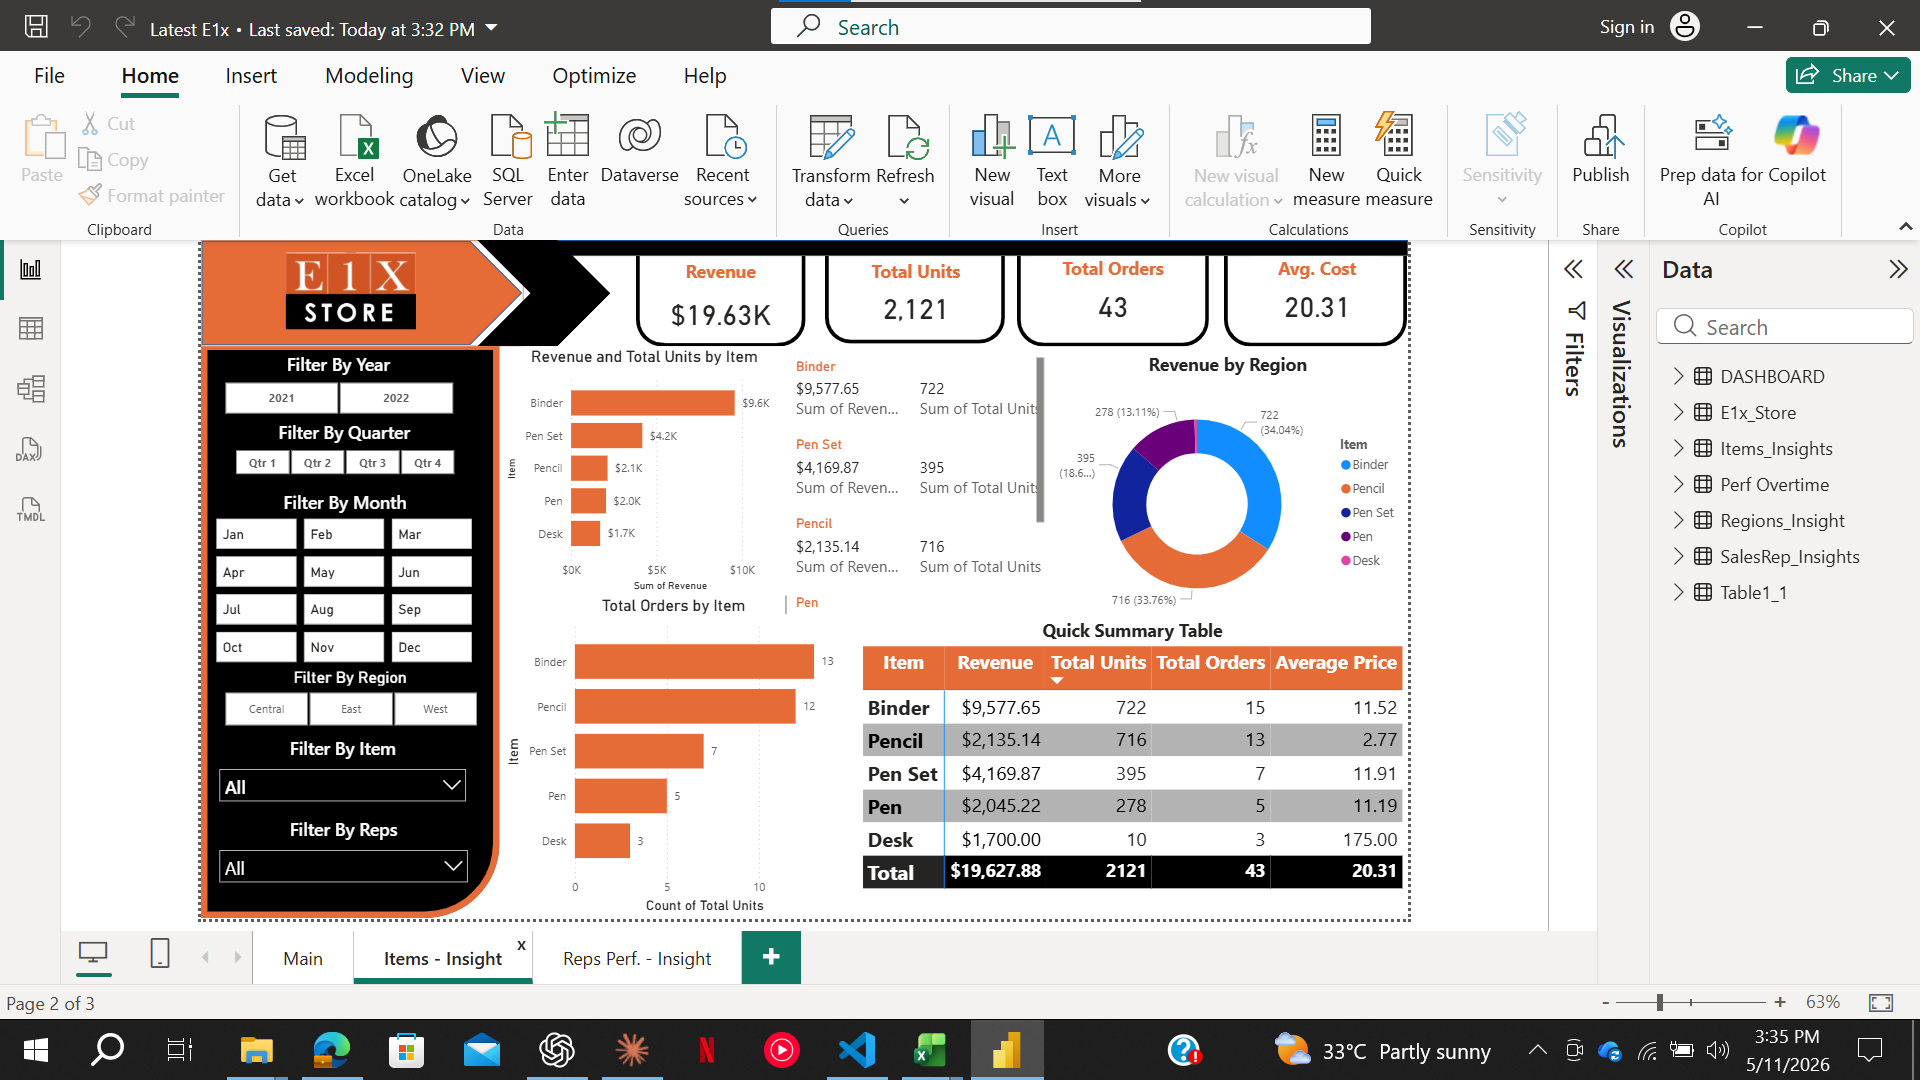

The dashboard page shown, as its layout file describes it:
{"tool":"powerbi","page":{"name":"Items - Insight","canvas":[1280,720],"ordinal":1},"visuals":[{"type":"shape","box":[0,109.8,316.5,609.2],"z":0},{"type":"shape","box":[0,0,342,112.9],"z":1000},{"type":"image","box":[0,8,318.1,105],"z":2000},{"type":"shape","box":[461.3,0,179.7,112.9],"z":3000},{"type":"shape","box":[661.7,0,190.9,109.8],"z":4000},{"type":"shape","box":[865.3,0,203.6,112.9],"z":5000},{"type":"shape","box":[1084.8,0,194.1,112.9],"z":6000},{"type":"shape","box":[338.3,0,941.1,17],"z":7000},{"type":"shape","box":[292.7,0,141.6,112.9],"z":8000},{"type":"card","title":"Revenue","fields":{"Values":["Sum(E1x_Store.Total)"]},"box":[491.3,20.8,119.1,88.8],"z":9000},{"type":"card","title":"Total Units","fields":{"Values":["Sum(Table1_1.Units)"]},"box":[684,20.7,147.9,74.8],"z":10000},{"type":"card","title":"Total Orders","fields":{"Values":["CountNonNull(Table1_1.OrderDate)"]},"box":[882.8,17.5,168.6,77.9],"z":11000},{"type":"card","title":"Avg. Cost","fields":{"Values":["Avg(Table1_1.Unit Cost)"]},"box":[1115,17.5,136.8,77.9],"z":12000},{"type":"donutChart","title":"Revenue by Region","fields":{"Y":["Sum(Table1_1.Units)"],"Category":["Table1_1.Item"]},"box":[898.7,119.3,380.2,295.9],"z":13000},{"type":"pivotTable","title":"Quick Summary Table","fields":{"Values":["Sum(Table1_1.Revenue)","Sum(Table1_1.Units)","CountNonNull(Table1_1.OrderDate)","Avg(Table1_1.Unit Cost)"],"Rows":["Table1_1.Item"]},"box":[696.7,400.8,582.2,316.5],"z":14000},{"type":"clusteredBarChart","title":"Total Orders by Item","fields":{"Category":["Table1_1.Item"],"Y":["Count(Table1_1.Units)"]},"box":[318.1,377,365.8,340.4],"z":15000},{"type":"multiRowCard","fields":{"Values":["Sum(Table1_1.Total)","Sum(Table1_1.Units)","Table1_1.Item"]},"box":[614,119.3,284.7,281.5],"z":16000},{"type":"clusteredBarChart","title":"Revenue and Total Units by Item","fields":{"Y":["Sum(Table1_1.Total)"],"Category":["Table1_1.Item"]},"box":[318.1,112.9,303.8,264],"z":17000},{"type":"advancedSlicerVisual","title":"Filter By Month","fields":{"Values":["Table1_1.Month_Name"]},"box":[11.1,265.6,283.1,187.7],"z":18000},{"type":"slicer","title":"Filter By Reps","fields":{"Values":["Table1_1.Rep"]},"box":[9.5,612.4,283.1,74.8],"z":19000},{"type":"slicer","title":"Filter By Quarter","fields":{"Values":["Table1_1.OrderDate.Variation.Date Hierarchy.Quarter"]},"box":[11.1,190.9,281.5,63.6],"z":20000},{"type":"slicer","title":"Filter By Year","fields":{"Values":["Table1_1.OrderDate.Variation.Date Hierarchy.Year"]},"box":[0,119.3,291.1,71.6],"z":21000},{"type":"slicer","title":"Filter By Item","fields":{"Values":["Table1_1.Item"]},"box":[9.5,526.5,281.5,85.9],"z":22000},{"type":"slicer","title":"Filter By Region","fields":{"Values":["Table1_1.Region"]},"box":[0,453.3,316.5,68.4],"z":23000}]}

Visuals, with their boxes on the page's 1280x720 design canvas (x1, y1, x2, y2). These are canvas units, not pixel positions in the 1920x1080 screenshot, which may show the page scaled, cropped or inside an application window:
shape: 0, 110, 316, 719
shape: 0, 0, 342, 113
image: 0, 8, 318, 113
shape: 461, 0, 641, 113
shape: 662, 0, 853, 110
shape: 865, 0, 1069, 113
shape: 1085, 0, 1279, 113
shape: 338, 0, 1279, 17
shape: 293, 0, 434, 113
"Revenue" card: 491, 21, 610, 110
"Total Units" card: 684, 21, 832, 96
"Total Orders" card: 883, 18, 1051, 95
"Avg. Cost" card: 1115, 18, 1252, 95
"Revenue by Region" donutChart: 899, 119, 1279, 415
"Quick Summary Table" pivotTable: 697, 401, 1279, 717
"Total Orders by Item" clusteredBarChart: 318, 377, 684, 717
multiRowCard - Sum(Table1_1.Total) x Sum(Table1_1.Units): 614, 119, 899, 401
"Revenue and Total Units by Item" clusteredBarChart: 318, 113, 622, 377
"Filter By Month" advancedSlicerVisual: 11, 266, 294, 453
"Filter By Reps" slicer: 10, 612, 293, 687
"Filter By Quarter" slicer: 11, 191, 293, 254
"Filter By Year" slicer: 0, 119, 291, 191
"Filter By Item" slicer: 10, 526, 291, 612
"Filter By Region" slicer: 0, 453, 316, 522
